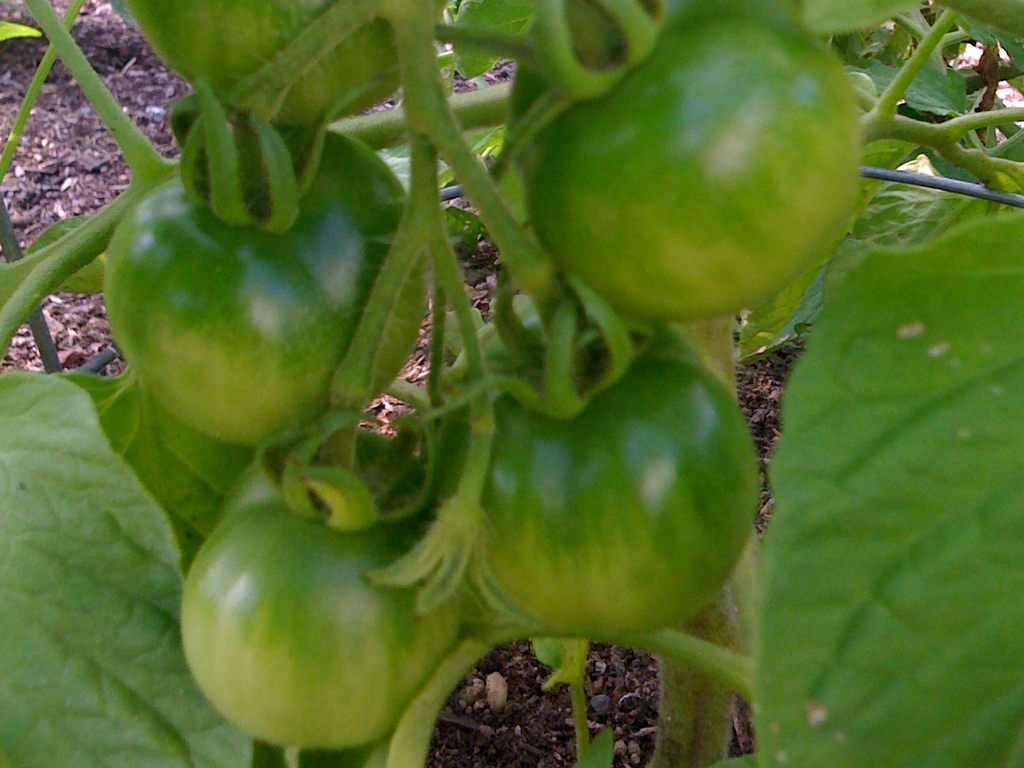Tomato: (102, 0, 860, 747)
